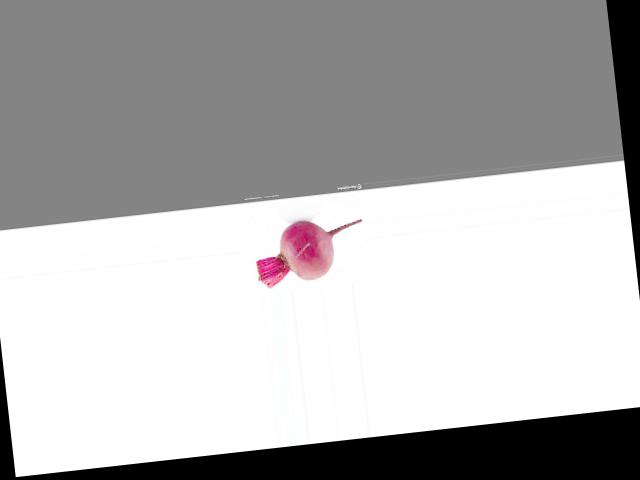beet: (251, 214, 367, 288)
